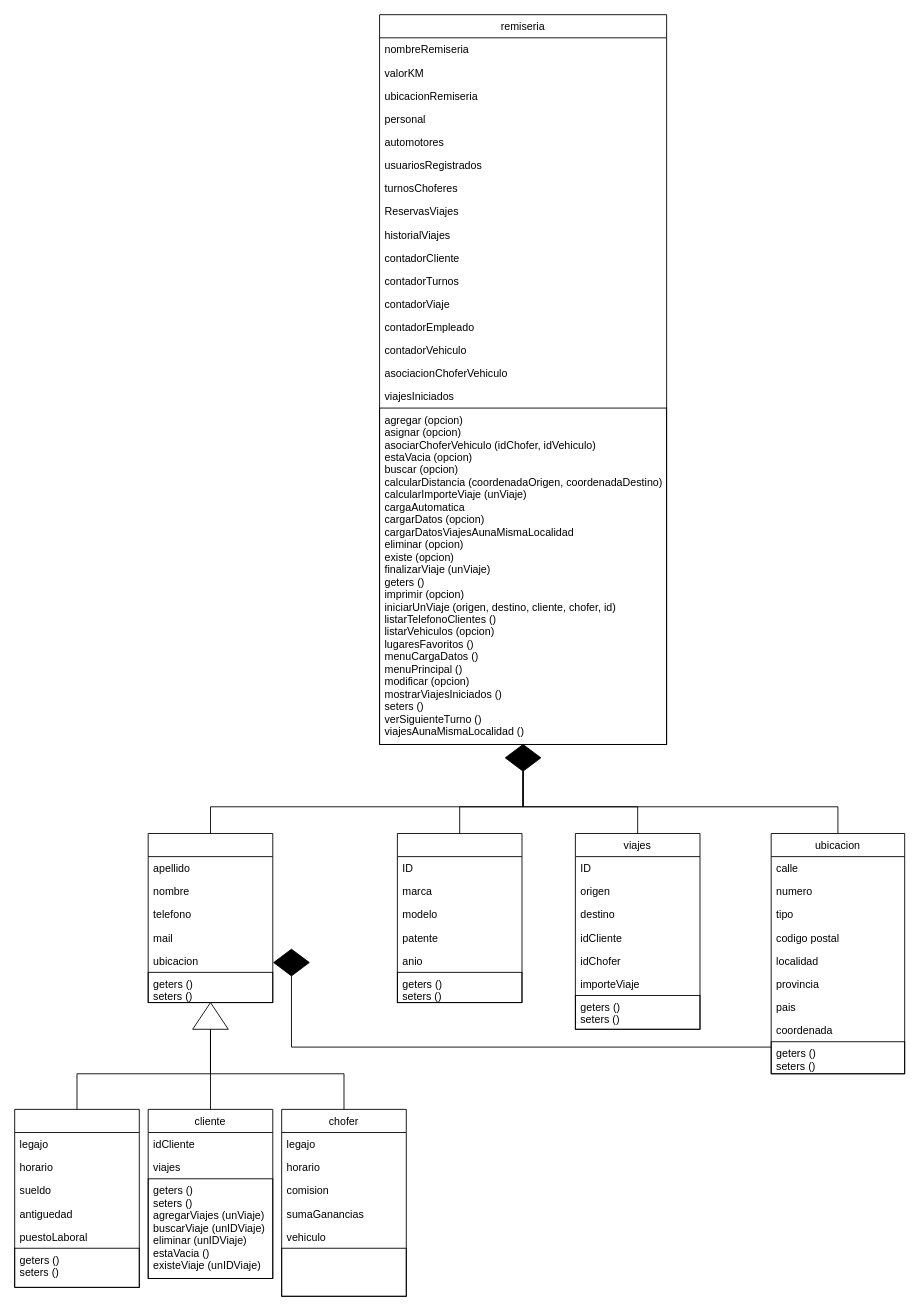
The diagram is 919 pixels wide and 1311 high, and some of its shapes have lost their labels. The shapes that lost their labels are listed below. From the top down, each one's box as (x1, y1, x2, y2) in pixels, then its label:
(147, 833, 273, 1003): persona
(396, 833, 522, 1003): vehiculos
(14, 1108, 139, 1287): empleado
(281, 1247, 406, 1296): geters () seters () sumaGanancias (unaGanancia)
